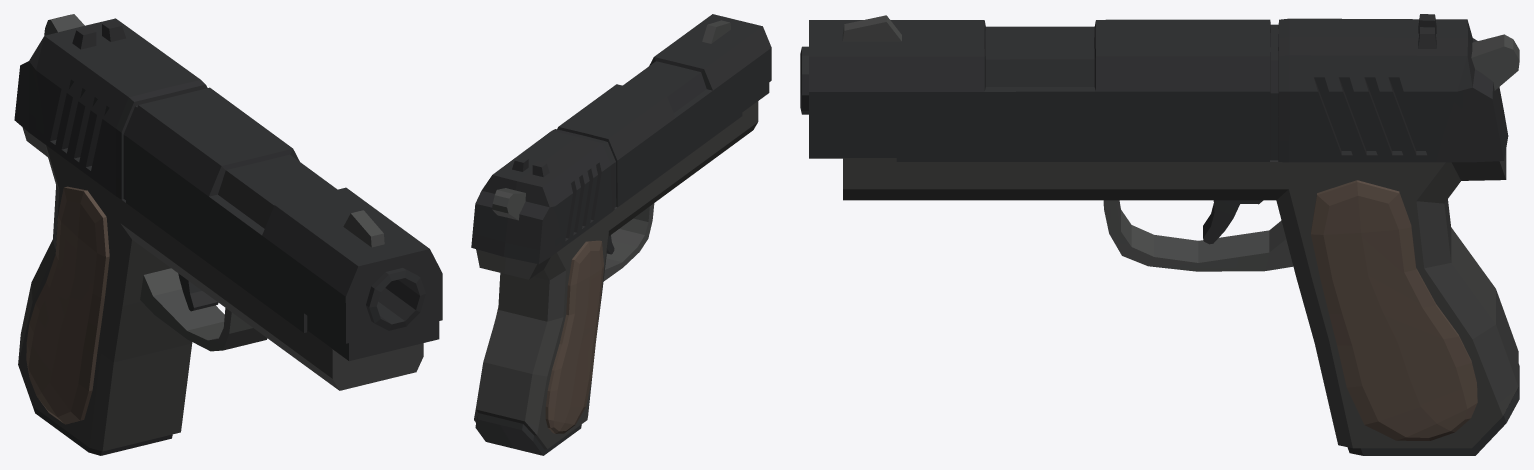
File: Pistol.fbx
3 renders of one model, left to right at view 1: azimuth 30°, elevation 25°; view 2: azimuth 150°, elevation 25°; view 3: azimuth 270°, elevation 25°, orthographic. The views are drawn at different scales.
Parts seen in each view (by area): view 1: Pistol_1_Body, Pistol_1_Magazine; view 2: Pistol_1_Body, Pistol_1_Magazine; view 3: Pistol_1_Body, Pistol_1_Magazine.
Boxes of the visible parts, box(x1,y1,x2,y2) form: Pistol_1_Body: box(14, 14, 442, 451); Pistol_1_Magazine: box(28, 393, 172, 455); Pistol_1_Body: box(471, 14, 771, 449); Pistol_1_Magazine: box(475, 413, 581, 455); Pistol_1_Body: box(800, 14, 1519, 448); Pistol_1_Magazine: box(1347, 364, 1519, 455).
Size of the model in its own units: 32.32 by 116 by 182.
